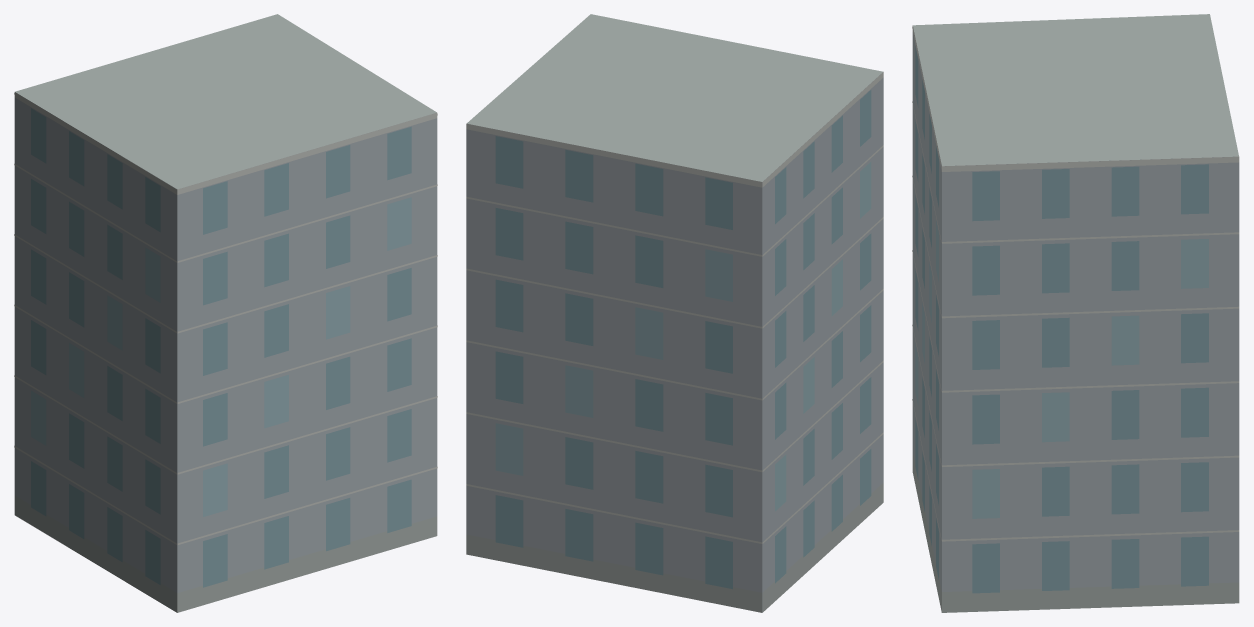
The model's file is survey-upis-32905926.glb.
3 views of the same model, side by side, from view 1: azimuth 30°, elevation 25°; view 2: azimuth 150°, elevation 25°; view 3: azimuth 270°, elevation 25° (orthographic). The views are drawn at different scales.
Parts seen in each view (by area): view 1: survey-upis-32905926.tmp; view 2: survey-upis-32905926.tmp; view 3: survey-upis-32905926.tmp.
Part boxes in pixels (box(x1,y1,x2,y2)): survey-upis-32905926.tmp: box(14, 14, 437, 612); survey-upis-32905926.tmp: box(466, 14, 883, 612); survey-upis-32905926.tmp: box(912, 14, 1239, 612).
Bounding box in the file's own units: 13.54 × 18.5 × 12.28.
